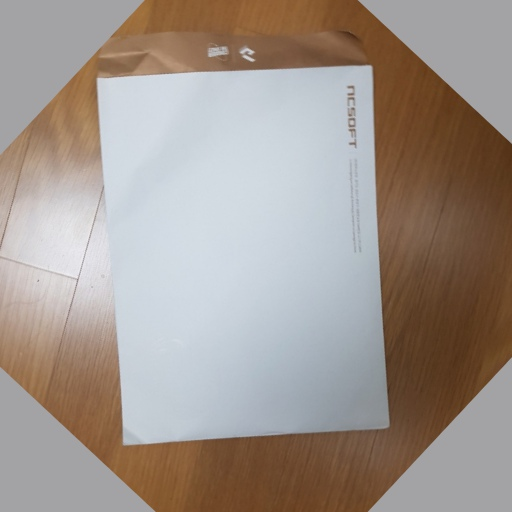Paper_2: (94, 28, 399, 450)
